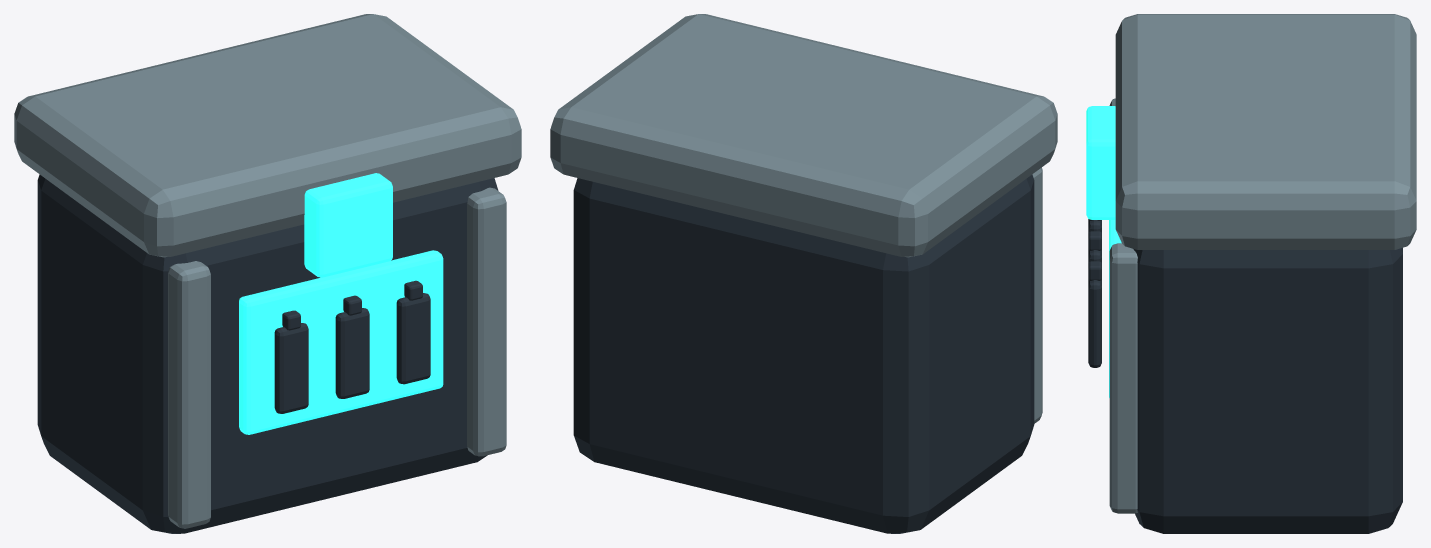
The model's file is ammo.glb.
The picture shows the model from 3 angles, left to right: view 1: azimuth 30°, elevation 25°; view 2: azimuth 150°, elevation 25°; view 3: azimuth 270°, elevation 25°; orthographic projection.
Parts seen in each view (by area): view 1: PRP_ammo_Skin_Carbon_Ceramic, ammo_lid_Skin_Brushed_Titanium, PRP_ammo_Skin_Static_Mint, PRP_ammo_Skin_Brushed_Titanium; view 2: PRP_ammo_Skin_Carbon_Ceramic, ammo_lid_Skin_Brushed_Titanium, PRP_ammo_Skin_Brushed_Titanium; view 3: PRP_ammo_Skin_Carbon_Ceramic, ammo_lid_Skin_Brushed_Titanium, PRP_ammo_Skin_Brushed_Titanium, PRP_ammo_Skin_Static_Mint.
Boxes of the visible parts, box(x1,y1,x2,y2) form: PRP_ammo_Skin_Carbon_Ceramic: box(37, 174, 498, 533); ammo_lid_Skin_Brushed_Titanium: box(14, 14, 521, 257); PRP_ammo_Skin_Static_Mint: box(239, 173, 443, 434); PRP_ammo_Skin_Brushed_Titanium: box(168, 187, 506, 528); PRP_ammo_Skin_Carbon_Ceramic: box(573, 174, 1034, 533); ammo_lid_Skin_Brushed_Titanium: box(550, 14, 1057, 257); PRP_ammo_Skin_Brushed_Titanium: box(1032, 167, 1042, 423); PRP_ammo_Skin_Carbon_Ceramic: box(1088, 219, 1402, 533); ammo_lid_Skin_Brushed_Titanium: box(1115, 14, 1416, 249); PRP_ammo_Skin_Brushed_Titanium: box(1109, 98, 1137, 513); PRP_ammo_Skin_Static_Mint: box(1086, 106, 1121, 397).
Bounding box in the file's own units: 0.32 × 0.2925 × 0.2415.
